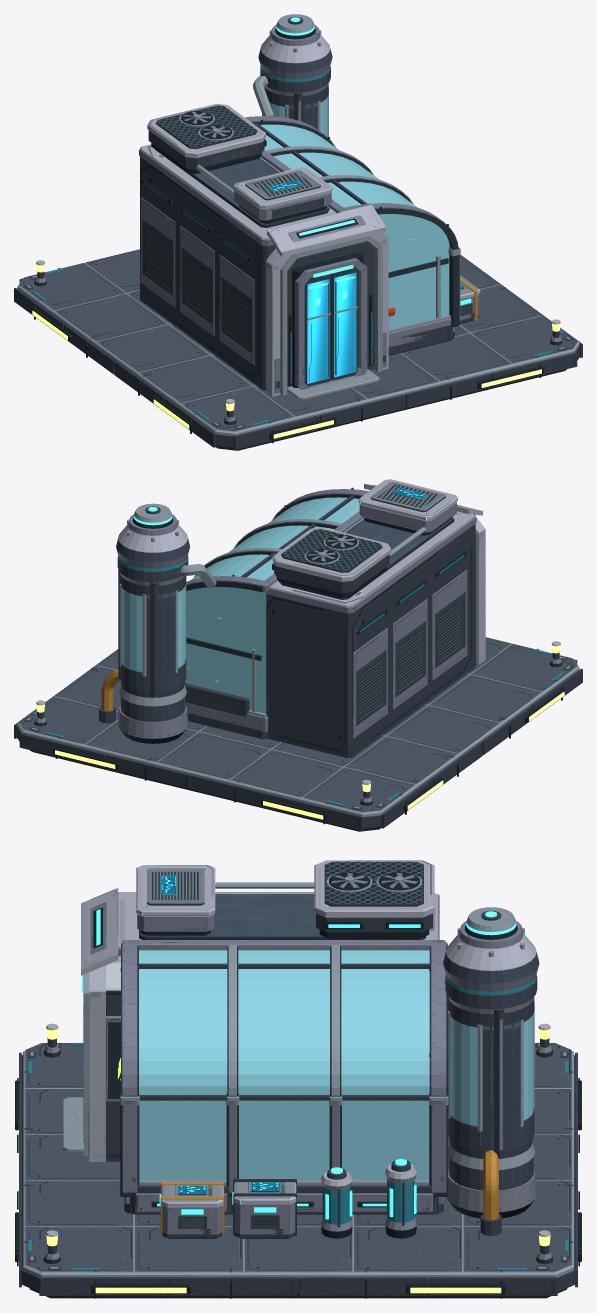
File: GH03_GranjaHidroponicaAvanzada.fbx
3 renders of one model, top to bottom at view 1: azimuth 30°, elevation 25°; view 2: azimuth 150°, elevation 25°; view 3: azimuth 270°, elevation 25°, orthographic. The views are drawn at different scales.
Parts seen in each view (by area): view 1: Estructura_3, Cristal_3; view 2: Estructura_3, Cristal_3; view 3: Estructura_3, Cristal_3.
Part boxes in pixels (x1,y1,x2,y2): Estructura_3: (14,14,582,450); Cristal_3: (260,95,449,329); Estructura_3: (14,479,582,831); Cristal_3: (122,497,359,713); Estructura_3: (14,860,582,1298); Cristal_3: (139,950,533,1180).
Bounding box in the file's own units: 6.76 × 4.21 × 6.82.
